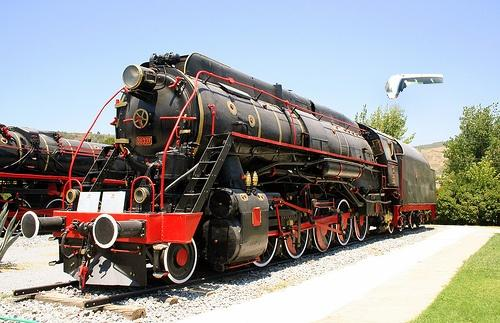tampered: (386, 75, 443, 99)
